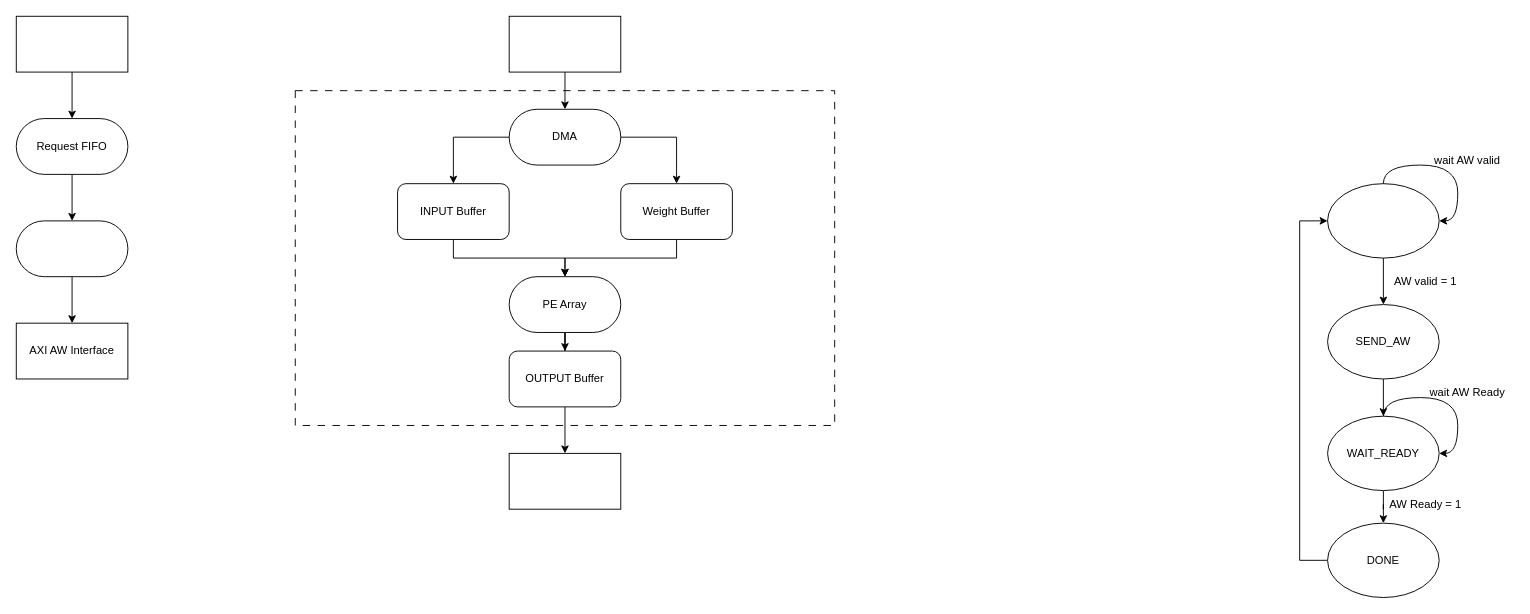
Some shapes in this 1530 by 614 pixel diagram are drawn without their labels. Each missing label, with the centre of its shape:
"AW FSM" goes at [71,248].
"DMA Request" goes at [71,43].
"IDLE" goes at [1383,220].
"Input Data" goes at [564,43].
"Output Data" goes at [564,480].
